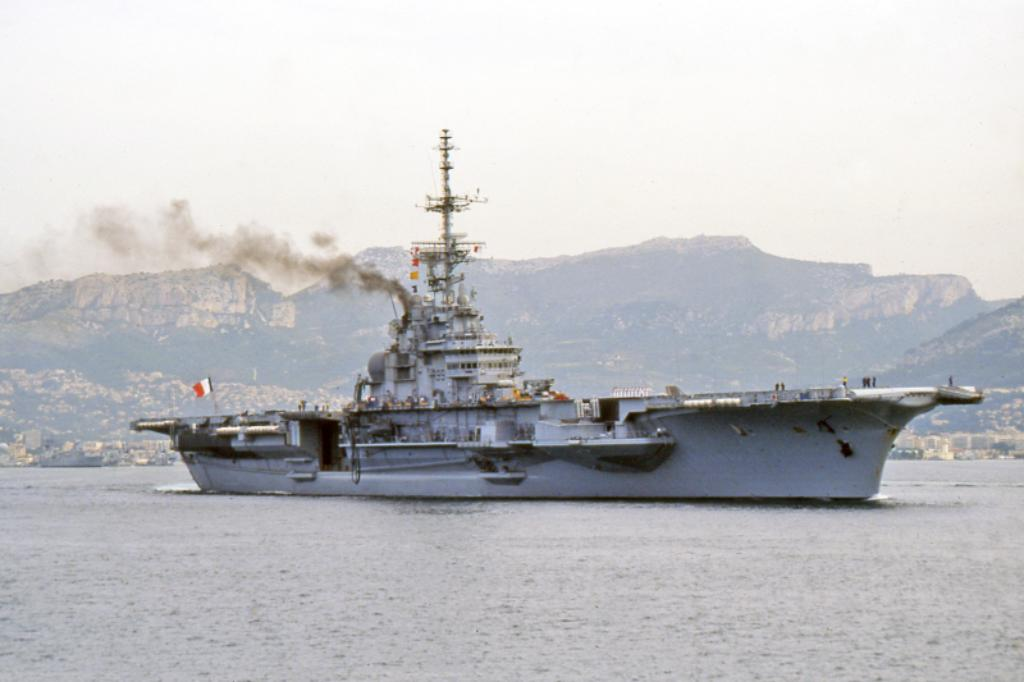Warship: (126, 120, 986, 510)
